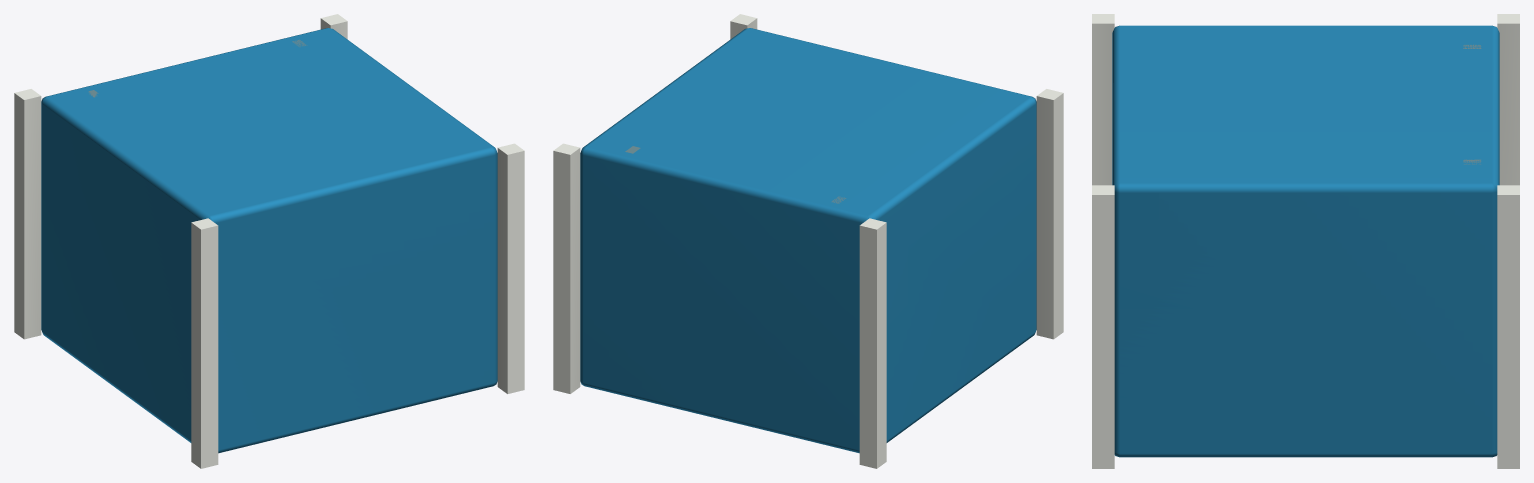
File: station-lift-shaft.glb
The picture shows the model from 3 angles, left to right: view 1: azimuth 30°, elevation 25°; view 2: azimuth 150°, elevation 25°; view 3: azimuth 270°, elevation 25°; orthographic projection. The views are drawn at different scales.
Parts seen in each view (by area): view 1: glazed shaft, structural mullion; view 2: glazed shaft, structural mullion; view 3: glazed shaft, structural mullion.
Part boxes in pixels (x1,y1,x2,y2): glazed shaft: (41, 28, 497, 453); structural mullion: (14, 14, 524, 468); glazed shaft: (580, 28, 1036, 453); structural mullion: (553, 14, 1063, 468); glazed shaft: (1112, 25, 1499, 457); structural mullion: (1092, 14, 1519, 468).
Size of the model in its own units: 1.42 by 1 by 1.42.
